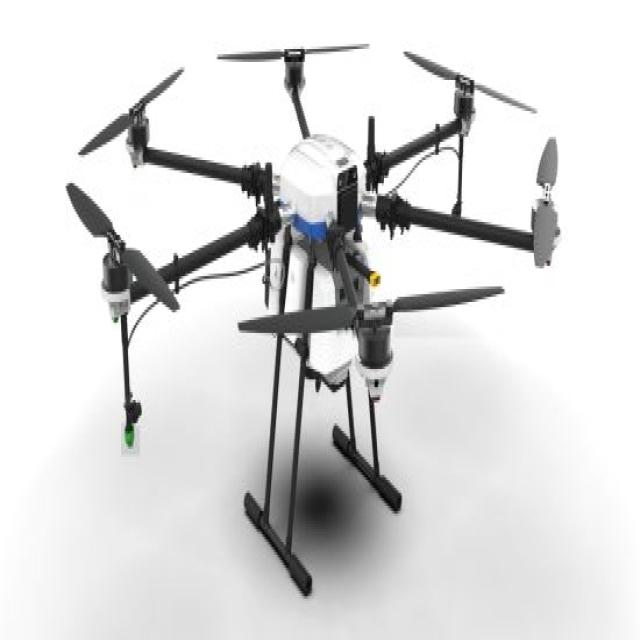drone: (78, 28, 568, 607)
